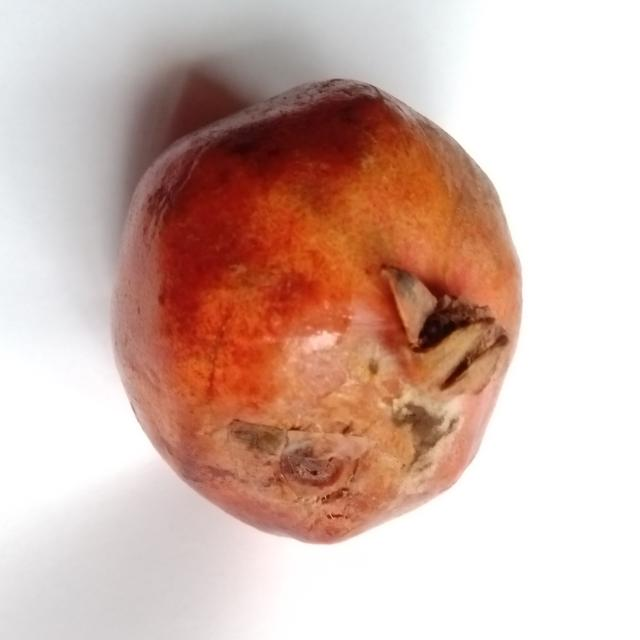Rotten: (104, 73, 529, 547)
